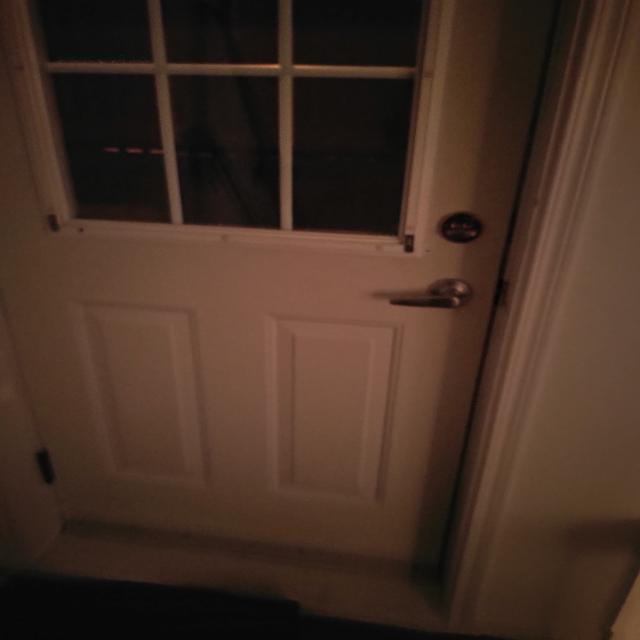door-handle: (389, 279, 471, 309)
